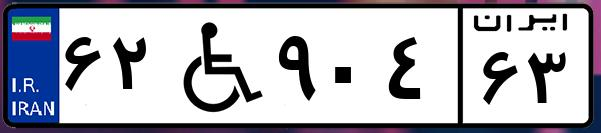0: (330, 28, 385, 110)
2: (110, 28, 158, 98)
3: (525, 38, 570, 115)
4: (385, 28, 445, 110)
6: (57, 26, 110, 100), (475, 38, 525, 113)
9: (270, 28, 330, 110)
ژ (معلولین و جانبازان): (158, 12, 270, 120)
